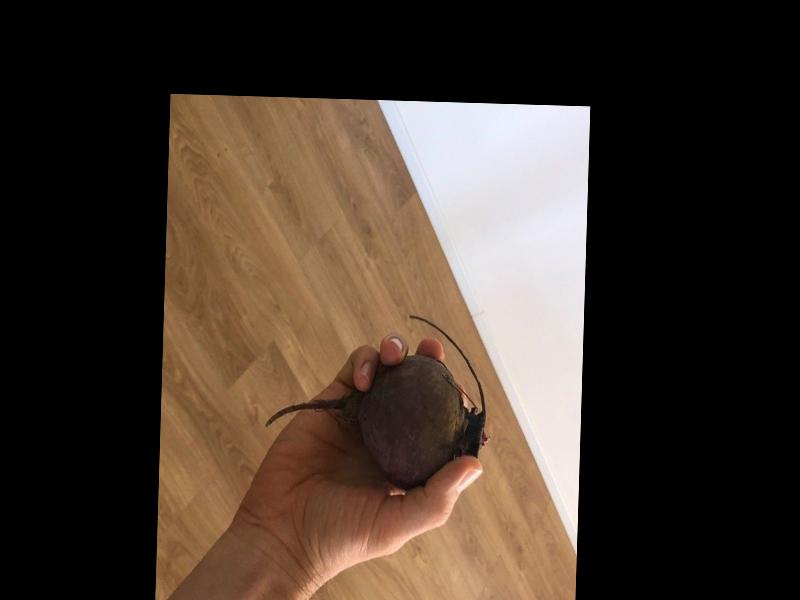Beet: (265, 309, 493, 491)
